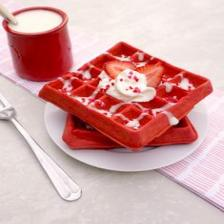red: (39, 42, 214, 151), (3, 15, 73, 81), (63, 114, 123, 150), (148, 117, 197, 146)
